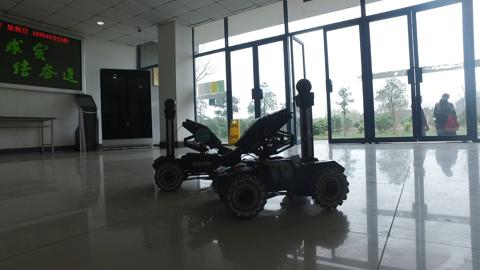chariot: (213, 77, 348, 223), (151, 94, 232, 190)
